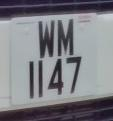1: (35, 56, 50, 103), (23, 57, 38, 103)
4: (46, 55, 67, 102)
7: (63, 54, 88, 97)
M: (54, 16, 79, 59)
W: (35, 19, 58, 60)
